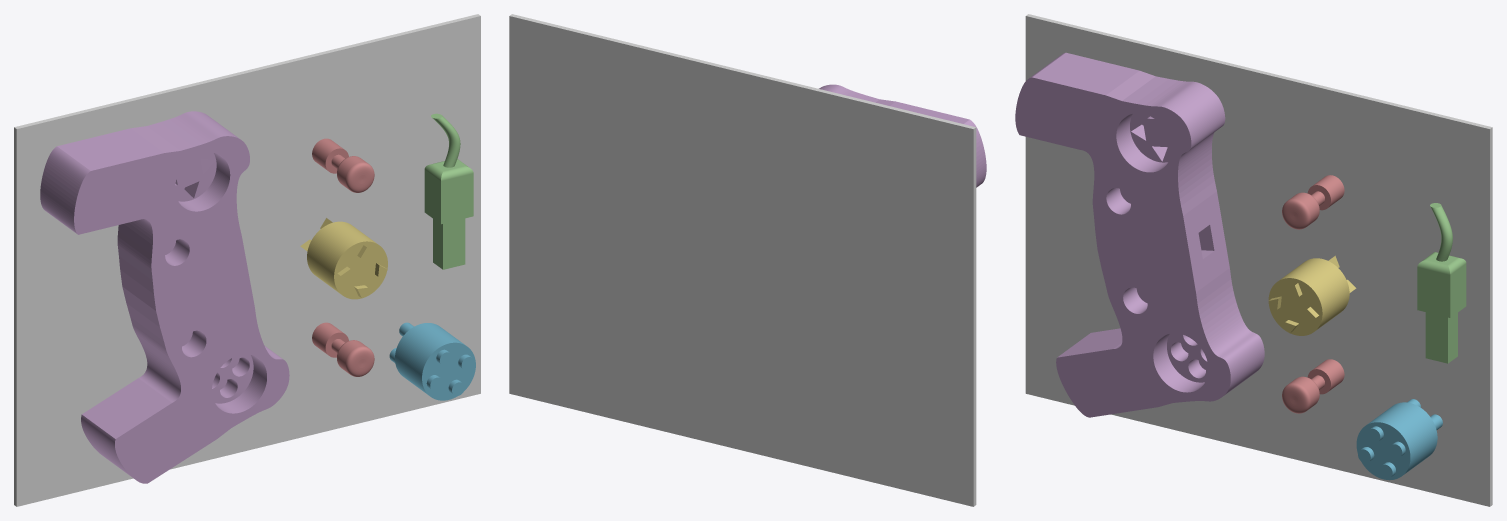
Rendered from pickup_layout.glb.
The picture shows the model from 3 angles, left to right: view 1: azimuth 30°, elevation 25°; view 2: azimuth 150°, elevation 25°; view 3: azimuth 330°, elevation 25°; orthographic projection.
Parts seen in each view (by area): view 1: world, 3.obj, 4.obj, 2.obj, 1.obj, 5.obj, 0.obj; view 2: world, 3.obj; view 3: world, 3.obj, 4.obj, 2.obj, 1.obj, 0.obj, 5.obj.
Part boxes in pixels (bbox=[...]): world: bbox=[14, 14, 480, 506]; 3.obj: bbox=[40, 111, 289, 483]; 4.obj: bbox=[424, 113, 473, 269]; 2.obj: bbox=[389, 322, 475, 400]; 1.obj: bbox=[300, 218, 387, 299]; 5.obj: bbox=[312, 138, 374, 192]; 0.obj: bbox=[312, 322, 374, 376]; world: bbox=[509, 14, 976, 506]; 3.obj: bbox=[819, 84, 986, 187]; world: bbox=[1025, 14, 1492, 506]; 3.obj: bbox=[1015, 52, 1264, 417]; 4.obj: bbox=[1417, 203, 1466, 363]; 2.obj: bbox=[1356, 399, 1442, 480]; 1.obj: bbox=[1268, 255, 1356, 335]; 0.obj: bbox=[1282, 359, 1344, 413]; 5.obj: bbox=[1282, 175, 1344, 229].
Size of the model in its own units: 19.79 by 15.39 by 3.2.
